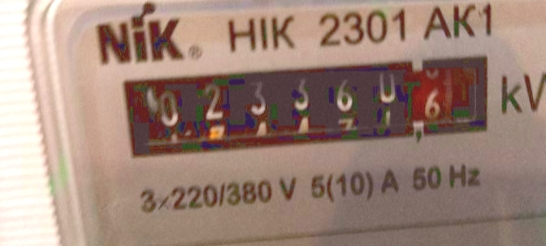0: (155, 86, 181, 129), (375, 67, 398, 104)
2: (199, 79, 226, 120)
3: (246, 77, 267, 117), (288, 74, 310, 112)
6: (330, 73, 356, 114), (422, 85, 444, 122)
screen: (100, 41, 503, 167)
